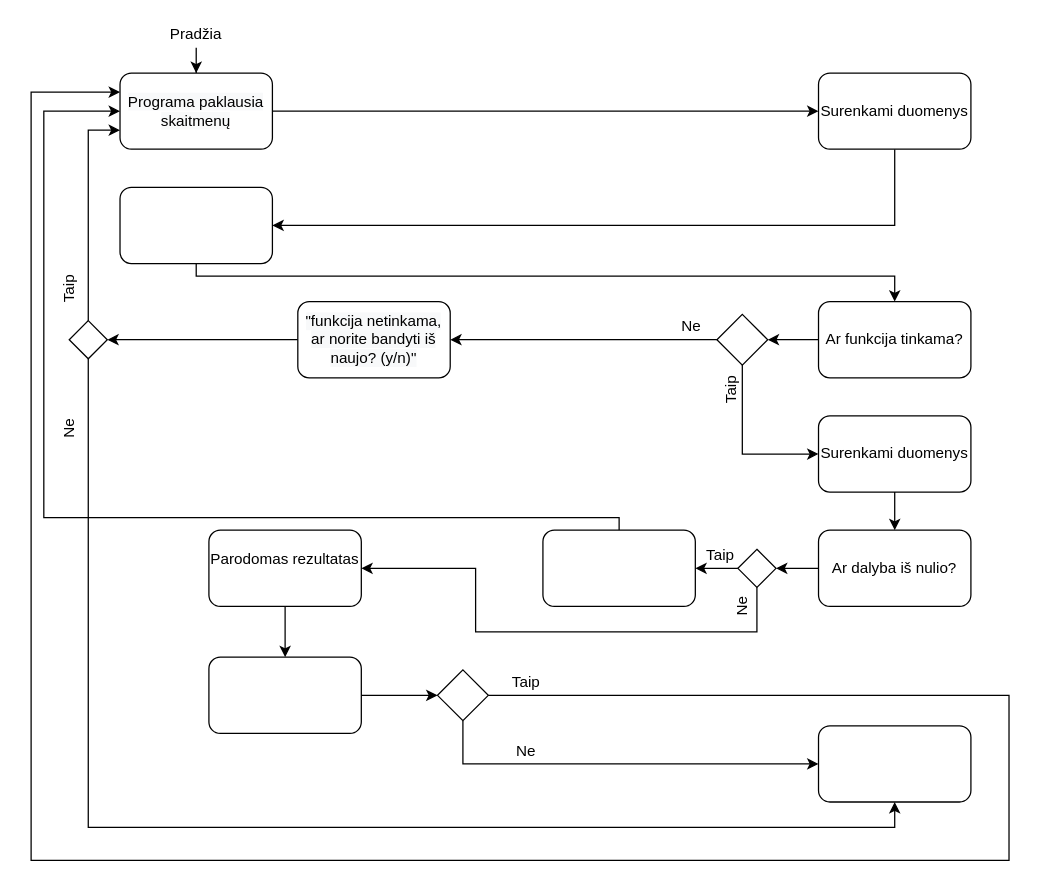
This 1041x893 diagram has some shape labels left out. Each missing label, with the centre of its shape:
"ar norite pakartoti?": pixel 284 694
"dalyba iš nulio yra negalima": pixel 618 567
Programa išsijungia: pixel 894 763
Programa paklausia veiksmo: pixel 195 225
